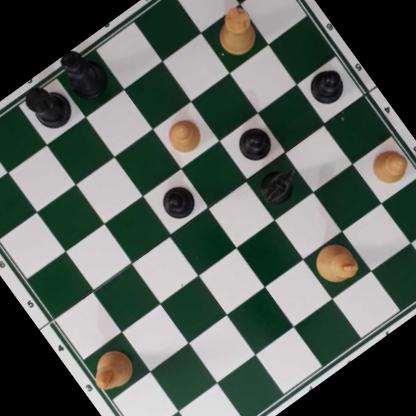black-king: (53, 41, 117, 109)
black-knight: (252, 157, 307, 211)
black-pawn: (302, 63, 350, 111), (231, 120, 277, 167), (155, 180, 202, 226)
black-rook: (17, 74, 80, 138)
white-bishop: (83, 342, 142, 400)
white-king: (305, 233, 364, 293)
white-pawn: (364, 141, 414, 191), (159, 111, 207, 160)
white-rook: (205, 0, 268, 64)
